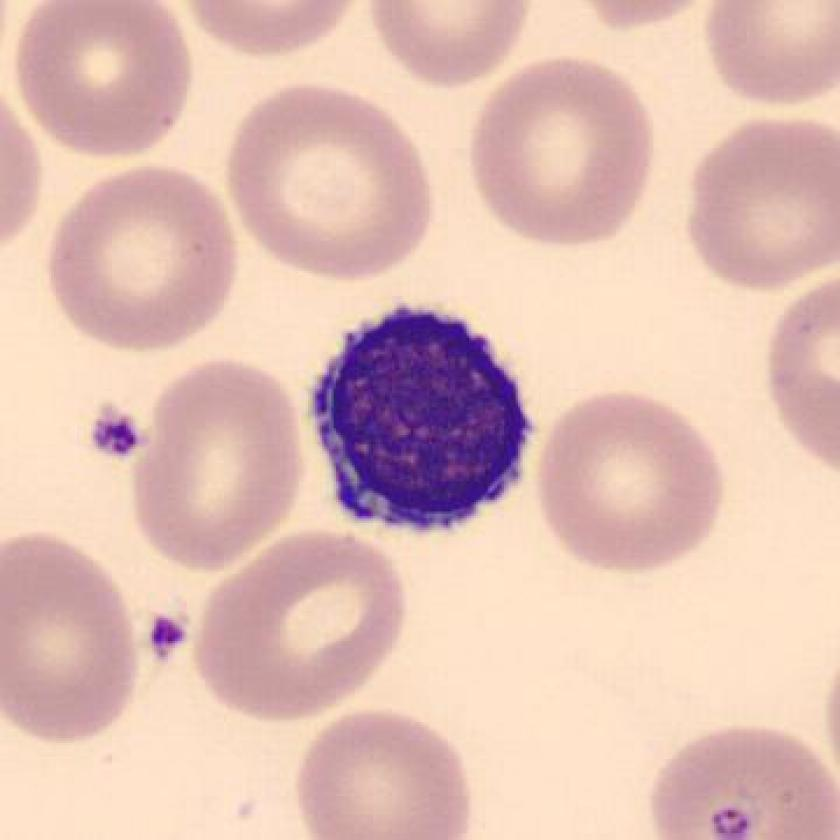lymphocyte: (293, 293, 552, 550)
